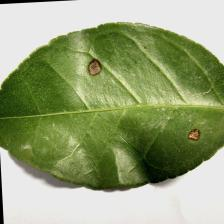canker: (85, 52, 208, 145)
